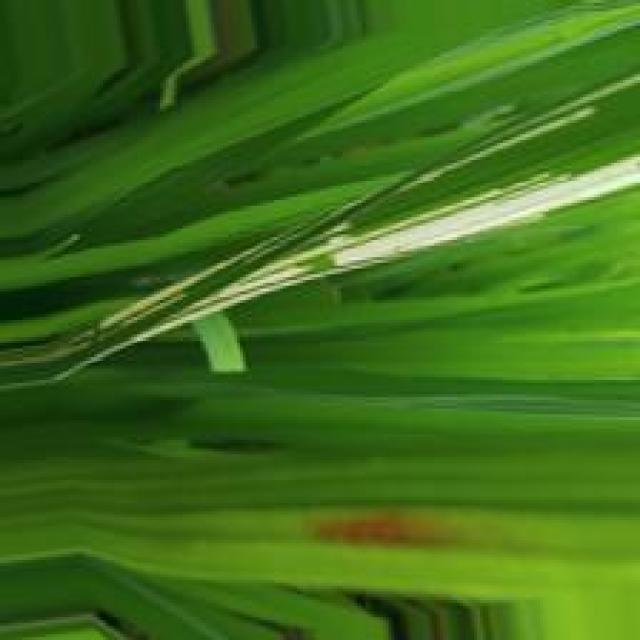Rice_Hispa: (160, 147, 640, 322), (90, 235, 298, 331)
